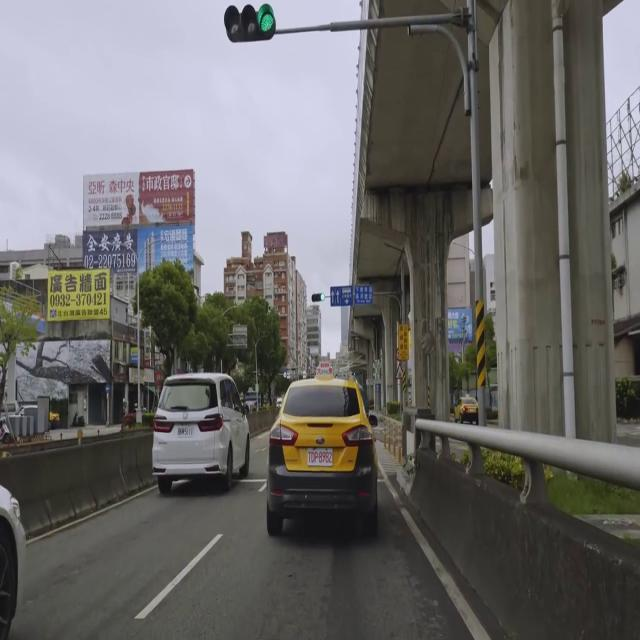green light: (224, 5, 275, 37), (311, 293, 325, 302)
